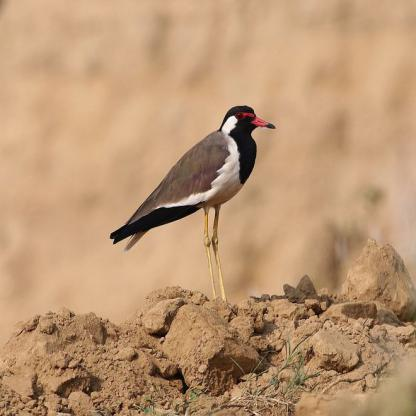Burung: (110, 105, 274, 305)
